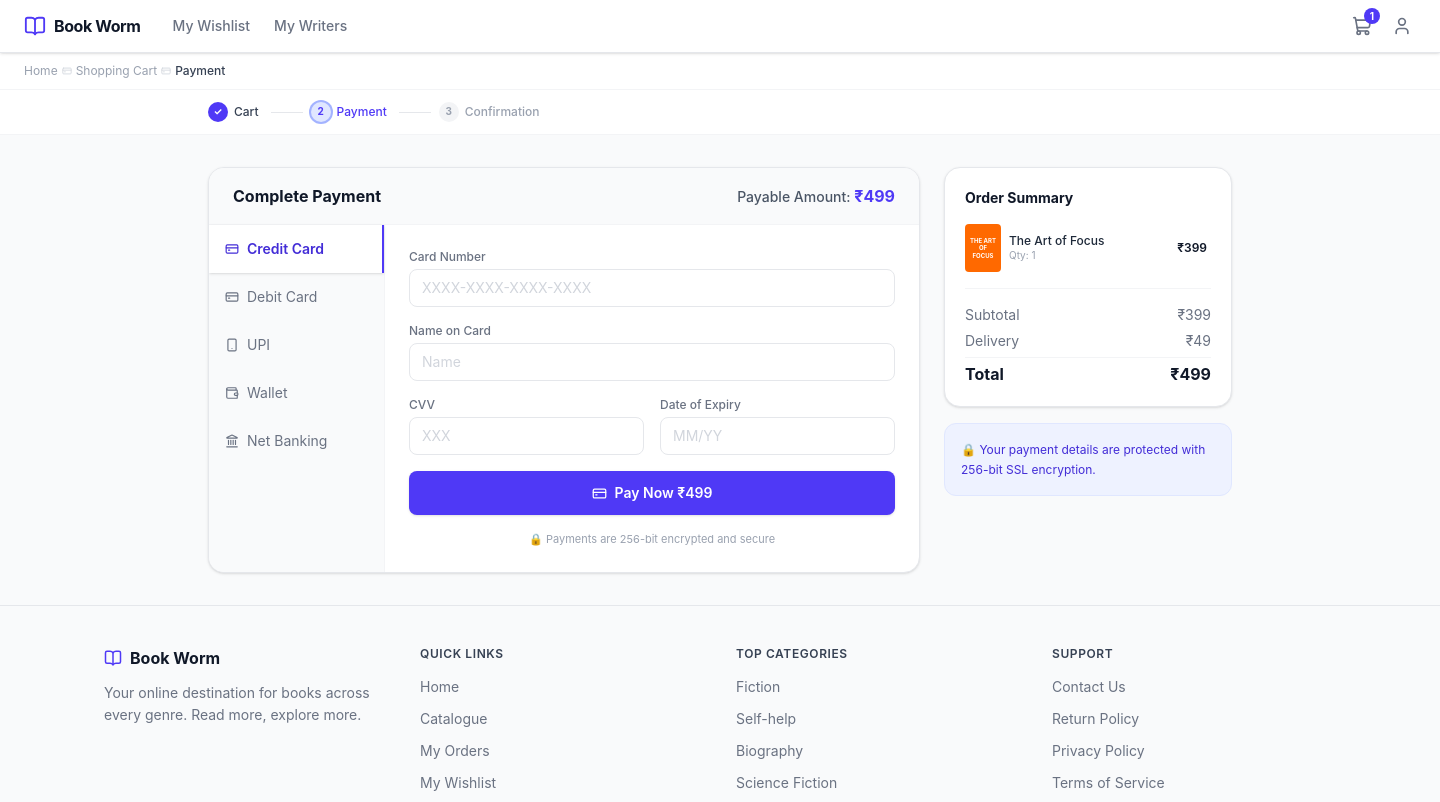
Test: PaymentPage › validates card inputs on submit
The image size is (1440, 802).
Step 1. Click the button "Pay Now ₹499" → coordinates (652, 493), box [409,471,895,515]
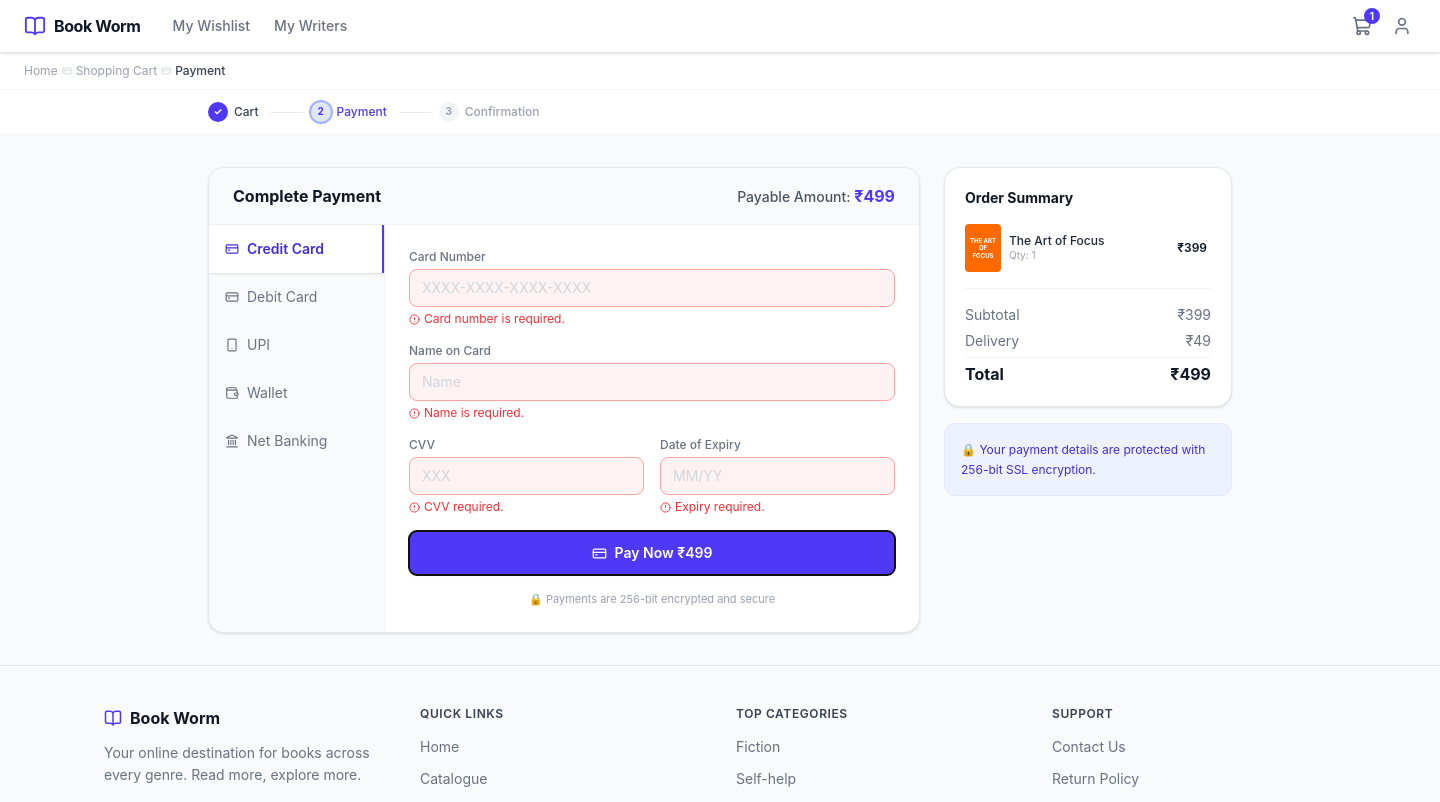
Expected: the text "Card number is required." is shown, [409,311,565,326]
Expected: the text "Name is required." is shown, [409,405,524,420]
Expected: the text "CVV required." is shown, [409,499,504,514]
